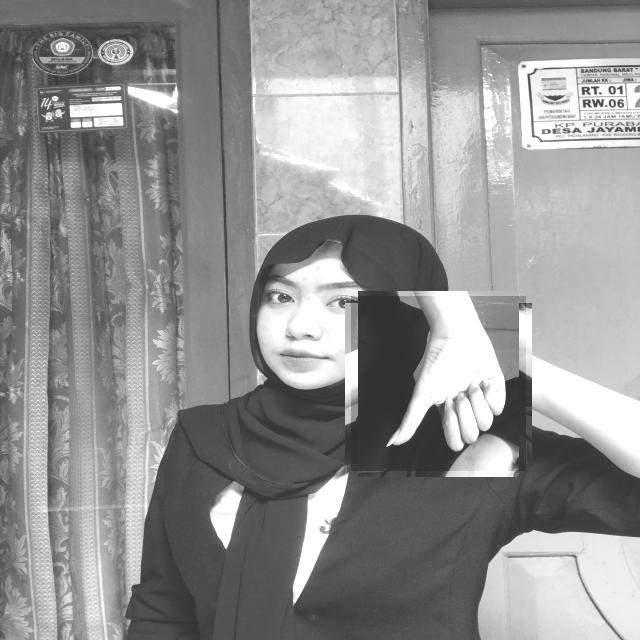sedih: (351, 296, 526, 471)
